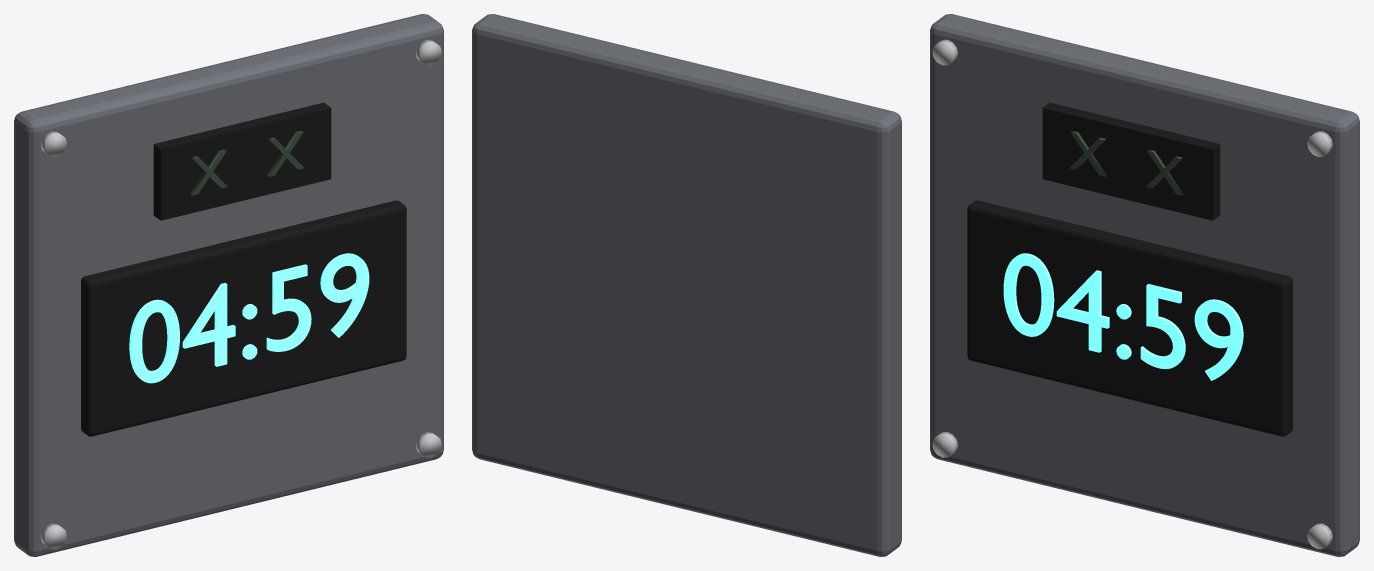
Rendered from timer.glb.
3 renders of one model, left to right at view 1: azimuth 30°, elevation 25°; view 2: azimuth 150°, elevation 25°; view 3: azimuth 330°, elevation 25°, orthographic.
Parts seen in each view (by area): view 1: Module_Timer_Plate, Timer_Display, Timer_StrikeBox, Timer_Digits, Timer_Strike1, Timer_Strike0, Module_Timer_Screw.003, Module_Timer_Screw, Module_Timer_Screw.001; view 2: Module_Timer_Plate; view 3: Module_Timer_Plate, Timer_Display, Timer_StrikeBox, Timer_Digits, Timer_Strike1, Timer_Strike0, Module_Timer_Screw.001, Module_Timer_Screw.002, Module_Timer_Screw.003.
Boxes of the visible parts, x1,y1,x2,y2 form: Module_Timer_Plate: (14, 14, 443, 556); Timer_Display: (81, 200, 406, 436); Timer_StrikeBox: (153, 102, 331, 220); Timer_Digits: (129, 253, 369, 383); Timer_Strike1: (267, 130, 304, 176); Timer_Strike0: (190, 149, 227, 195); Module_Timer_Screw.003: (415, 39, 441, 65); Module_Timer_Screw: (41, 523, 66, 549); Module_Timer_Screw.001: (41, 131, 66, 156); Module_Timer_Plate: (472, 14, 901, 556); Module_Timer_Plate: (930, 14, 1359, 556); Timer_Display: (967, 200, 1292, 436); Timer_StrikeBox: (1042, 102, 1220, 220); Timer_Digits: (1003, 253, 1243, 380); Timer_Strike1: (1146, 149, 1183, 195); Timer_Strike0: (1069, 130, 1106, 176); Module_Timer_Screw.001: (932, 39, 958, 65); Module_Timer_Screw.002: (1307, 523, 1332, 549); Module_Timer_Screw.003: (1307, 131, 1332, 156).
Bounding box in the file's own units: 0.98 × 0.98 × 0.129.
